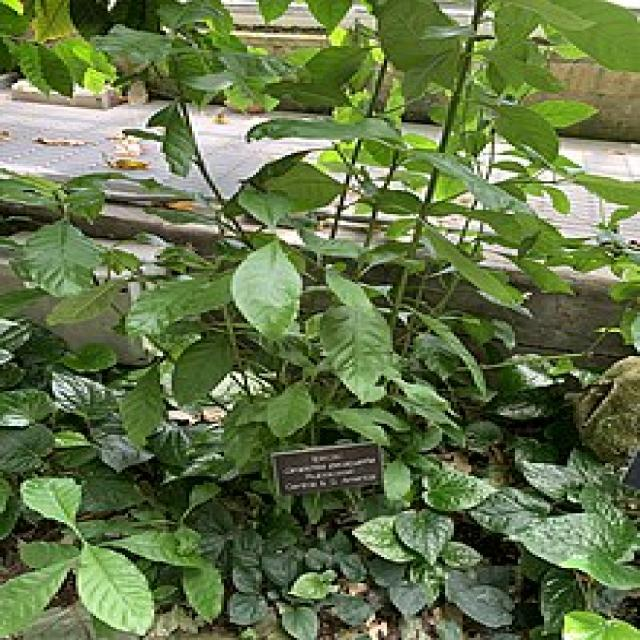Ipecac: (46, 38, 640, 640), (0, 311, 640, 640), (215, 11, 548, 352), (135, 196, 498, 492)
